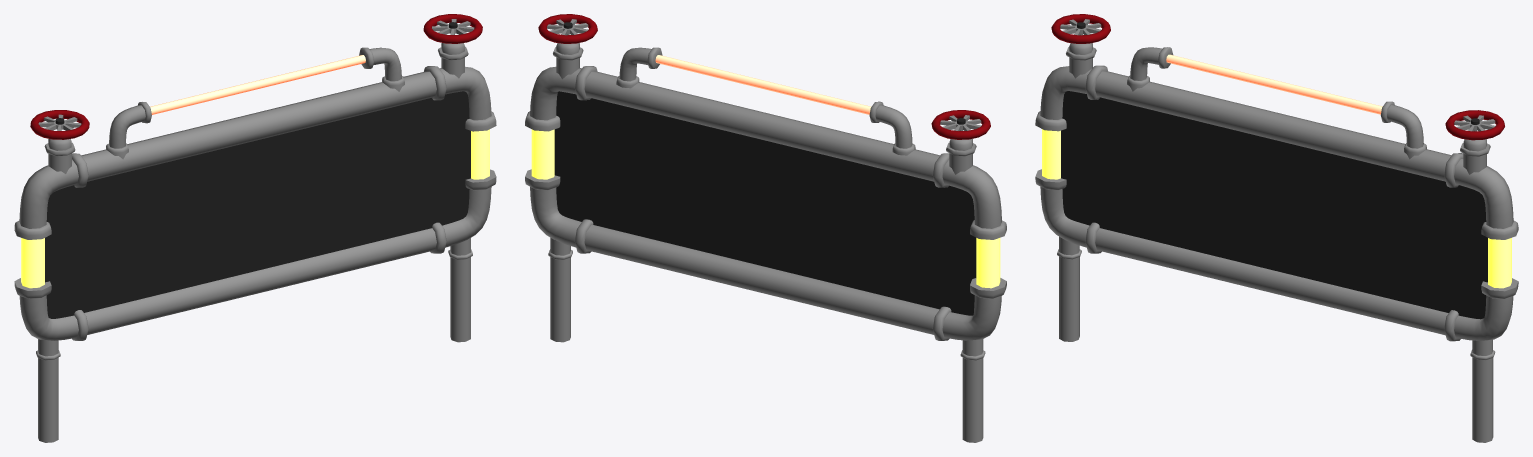
Rendered from mesh_Factory_Leadboard.fbx.
3 renders of one model, left to right at view 1: azimuth 30°, elevation 25°; view 2: azimuth 150°, elevation 25°; view 3: azimuth 330°, elevation 25°, orthographic.
Parts seen in each view (by area): view 1: mesh_Factory_Leadboard; view 2: mesh_Factory_Leadboard; view 3: mesh_Factory_Leadboard.
Boxes of the visible parts, x1,y1,x2,y2 form: mesh_Factory_Leadboard: [14, 14, 496, 442]; mesh_Factory_Leadboard: [525, 14, 1006, 442]; mesh_Factory_Leadboard: [1035, 14, 1518, 442].
Bounding box in the file's own units: 10.57 × 6.69 × 1.15.
